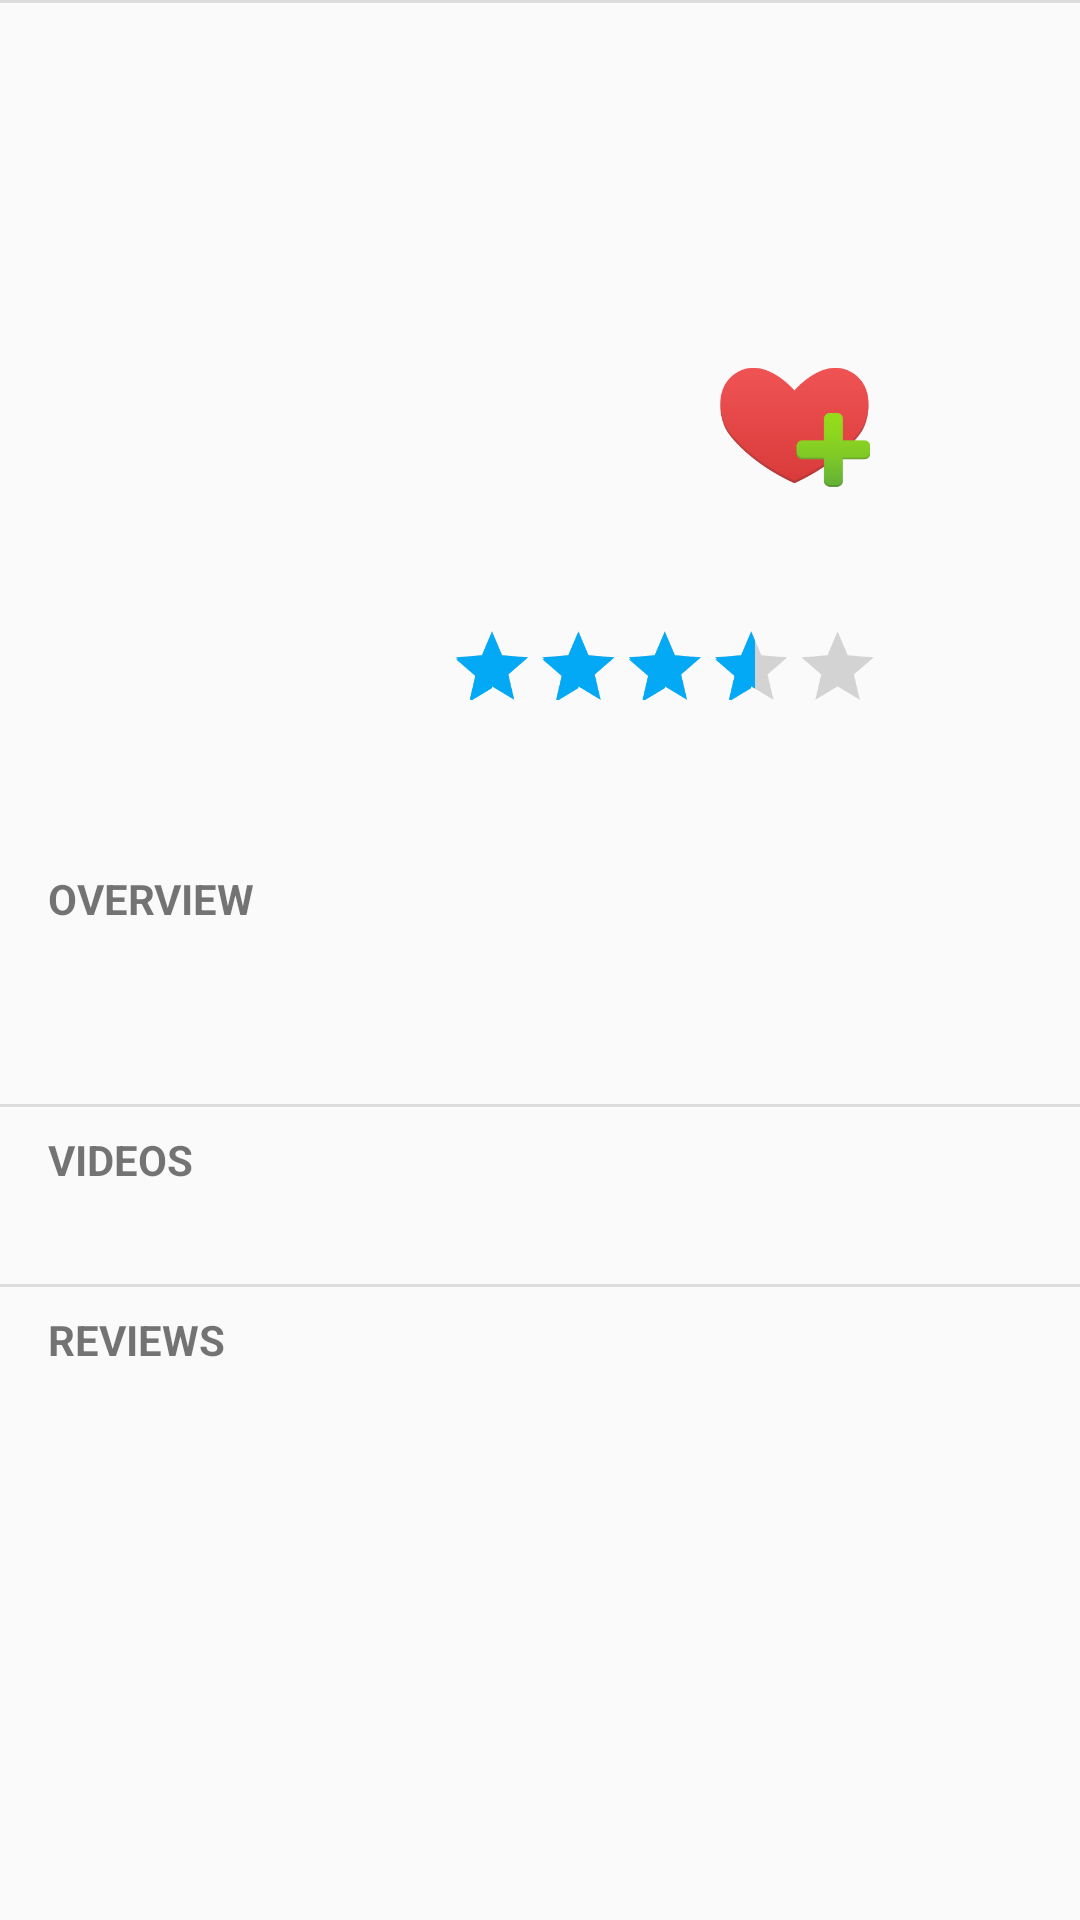

Where to tap for icons on this 1080x1920 app screen, as [x,y]:
favorites add: [795,427]
